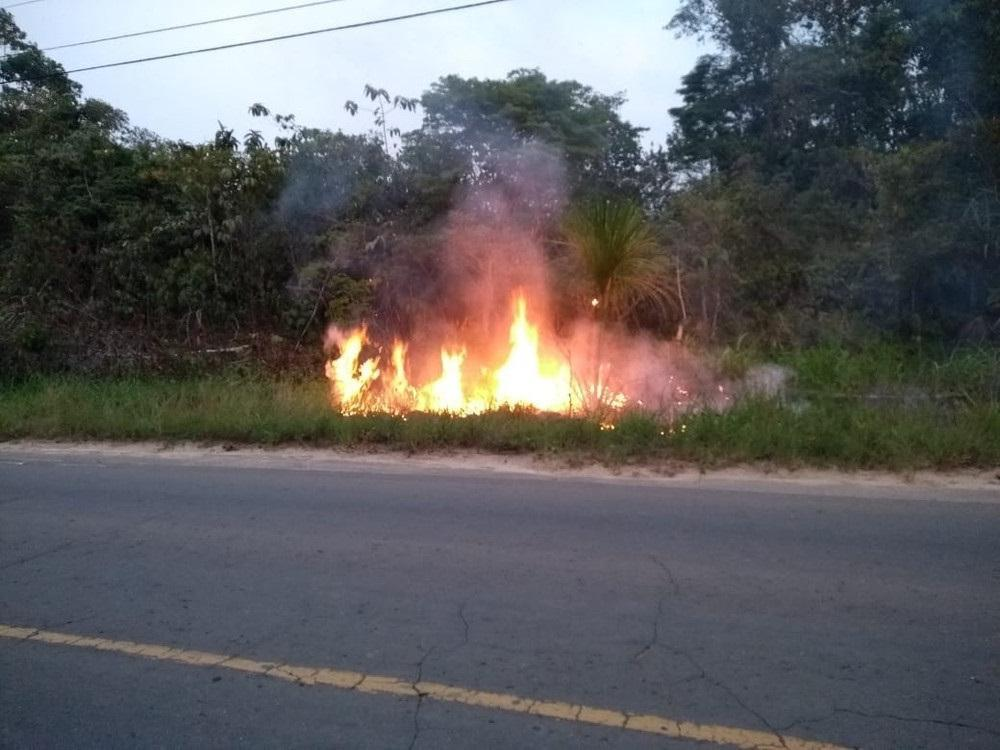Fire: (326, 282, 581, 423)
